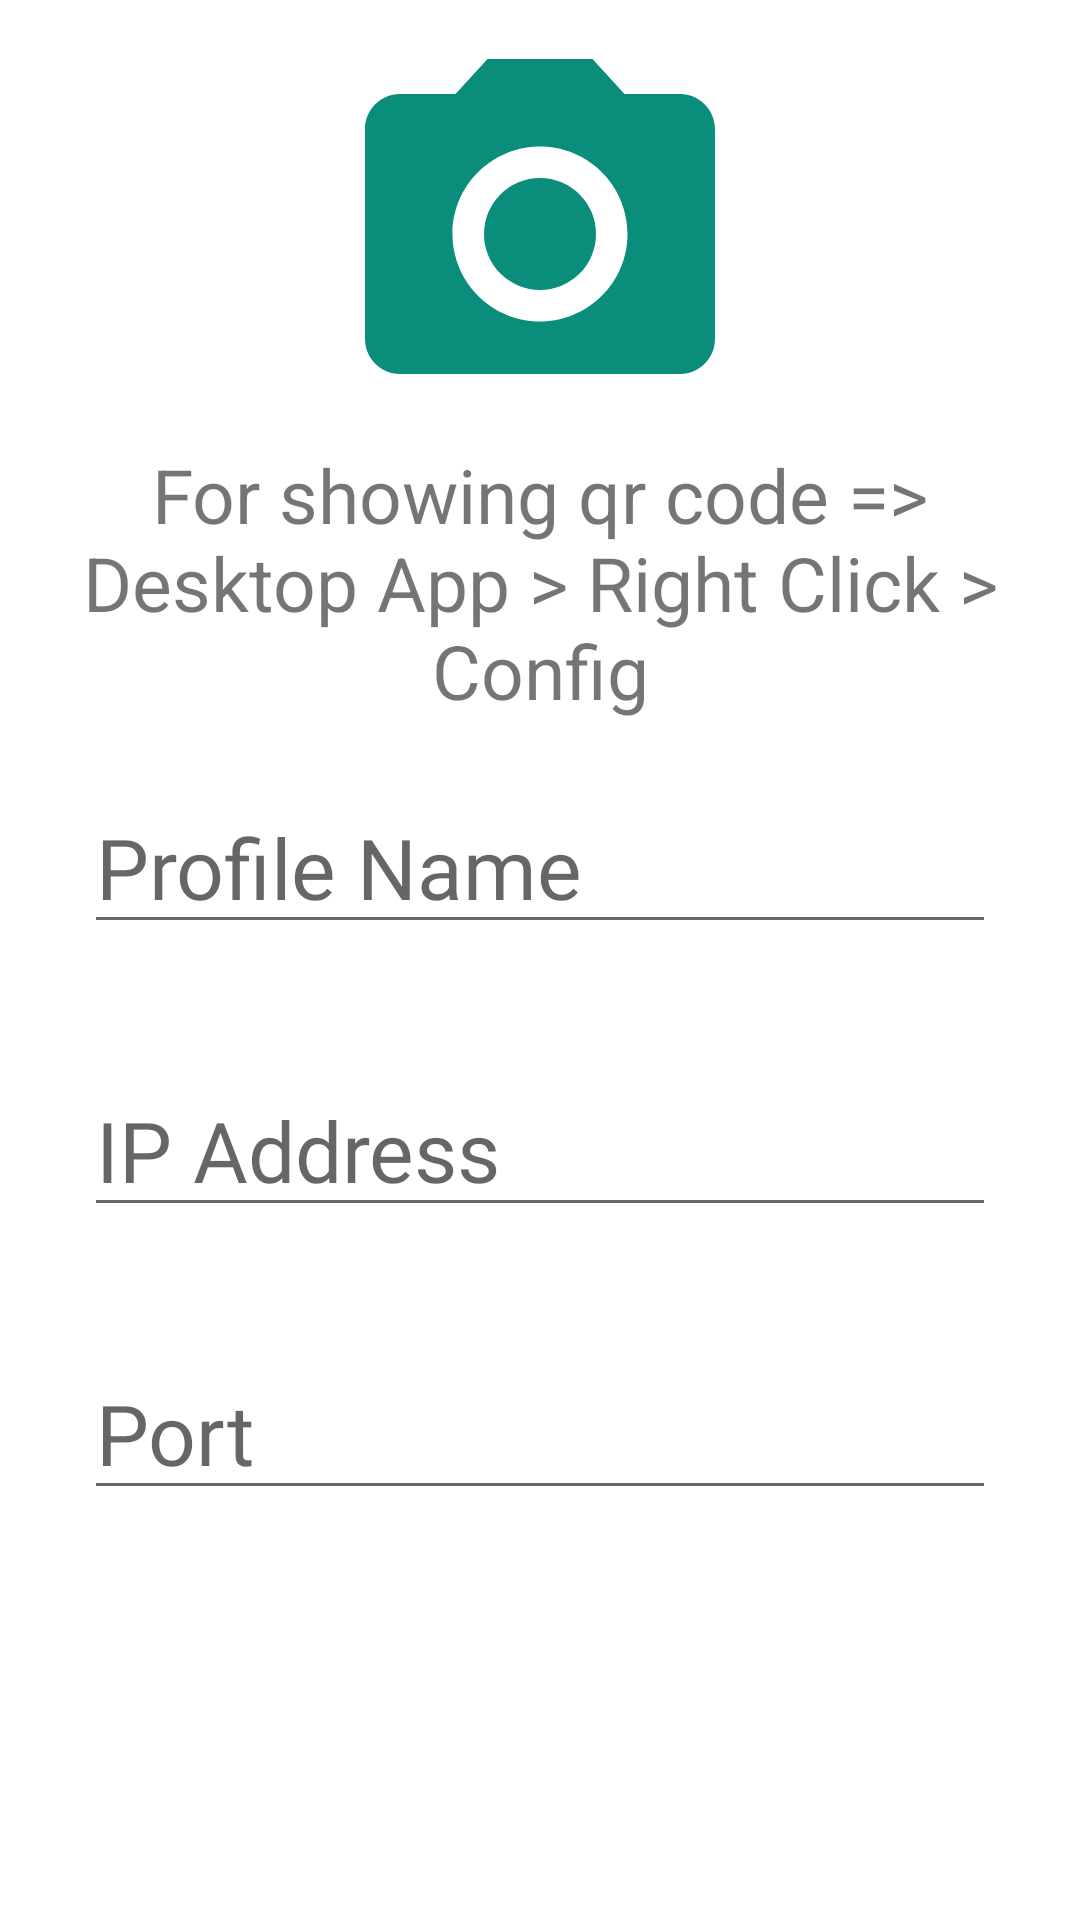

Locate icon controls on the screen. Image size 1080w x 1920h, boxes as [left=x1, top=y1, right=x2, bottom=y2].
camera: [left=365, top=59, right=715, bottom=374]
